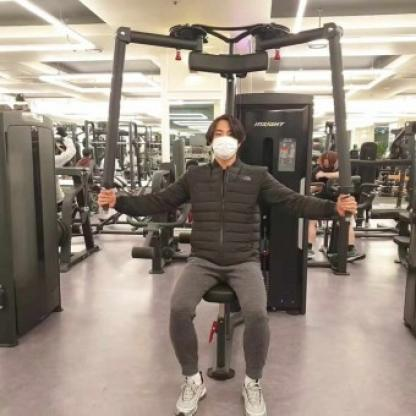chest fly machine: (35, 0, 401, 416)
